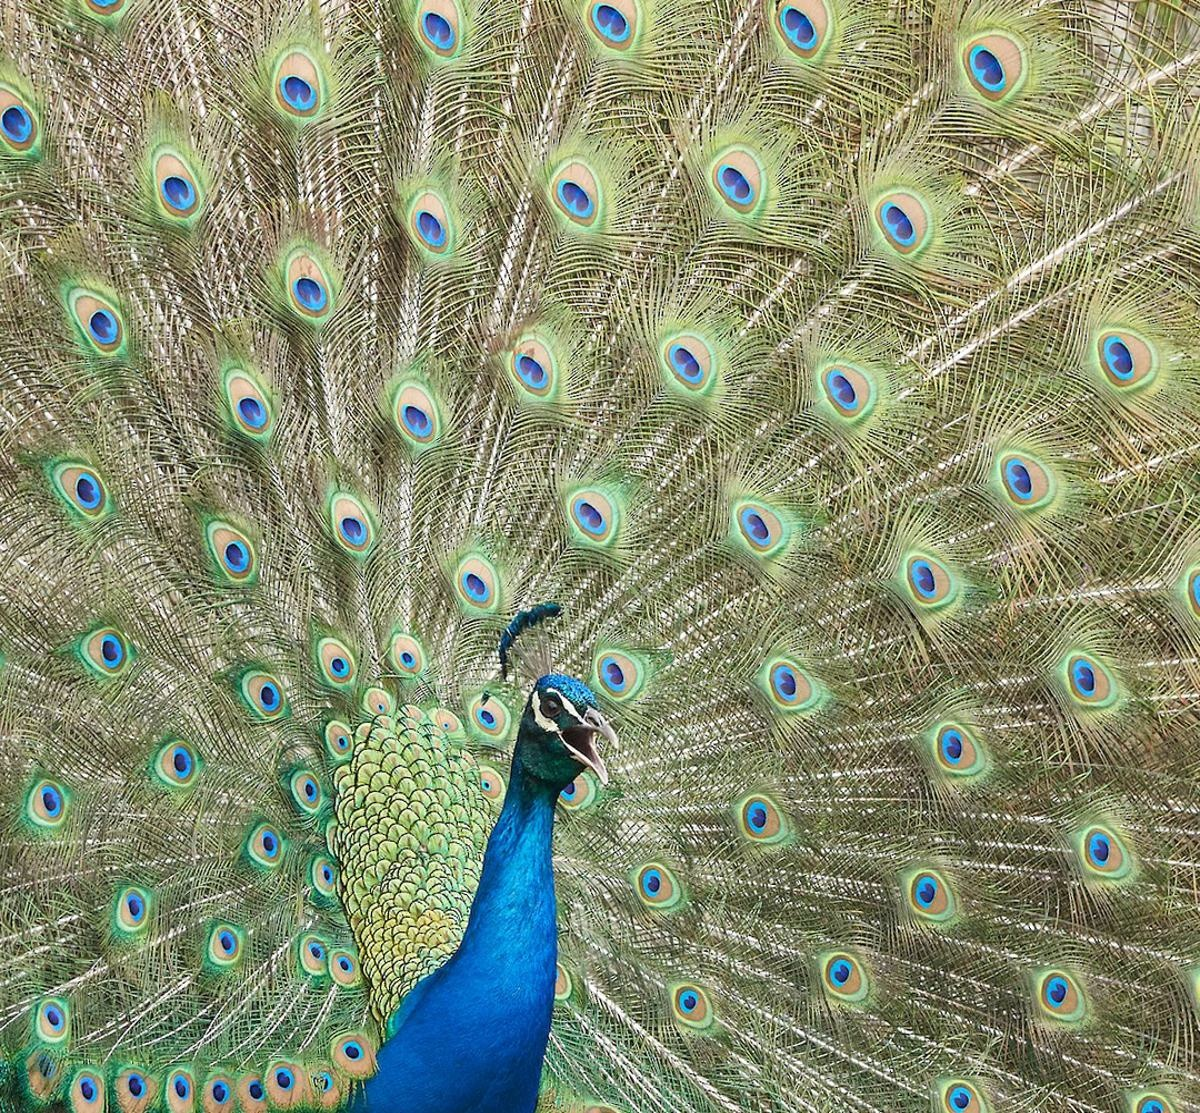peacock: (59, 185, 1200, 1113)
